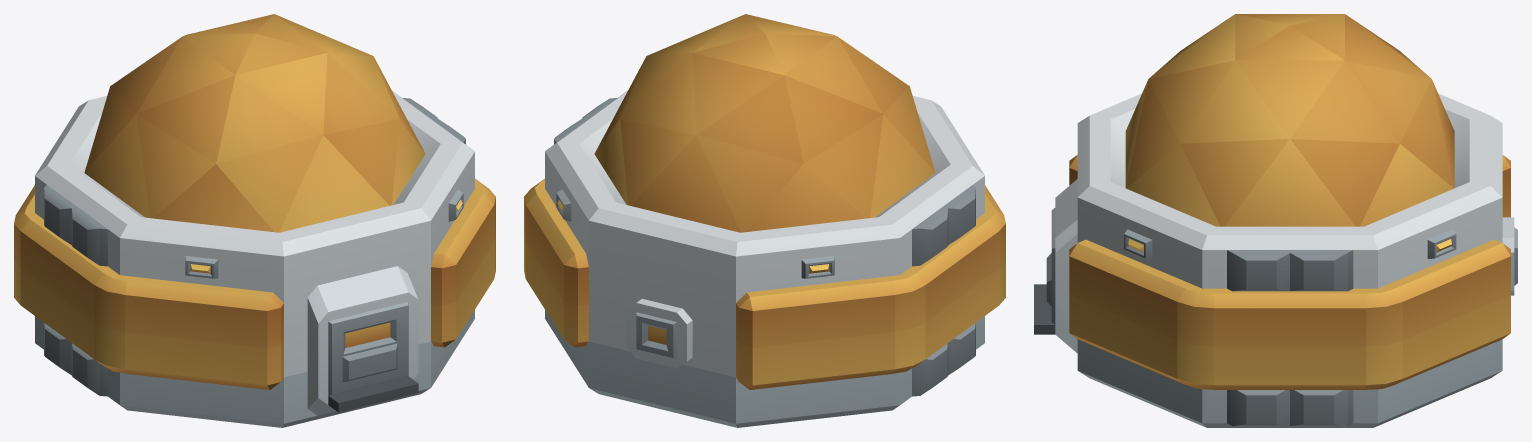
The model's file is basemodule_E.obj.
The picture shows the model from 3 angles, left to right: view 1: azimuth 30°, elevation 25°; view 2: azimuth 150°, elevation 25°; view 3: azimuth 270°, elevation 25°; orthographic projection. The views are drawn at different scales.
Bounding box in the file's own units: 2.22 × 1.65 × 2.28.
Materials: 1 (1 with a texture image).
